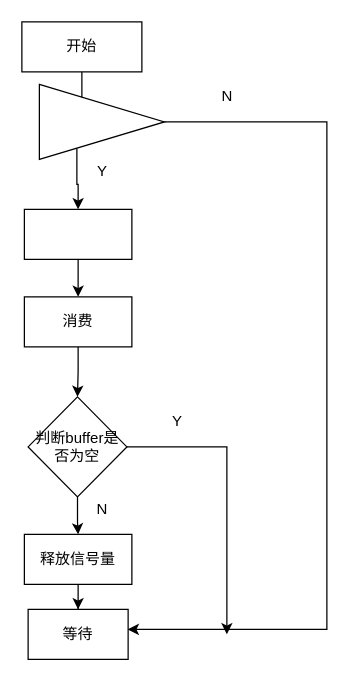
The diagram is 359 pixels wide and 681 high, and some of its shapes have lost their labels. The centre of each missing label's shape, as x and y in pixels:
尝试获取信号量: the point at 101,121
获取信号量: the point at 77,233
